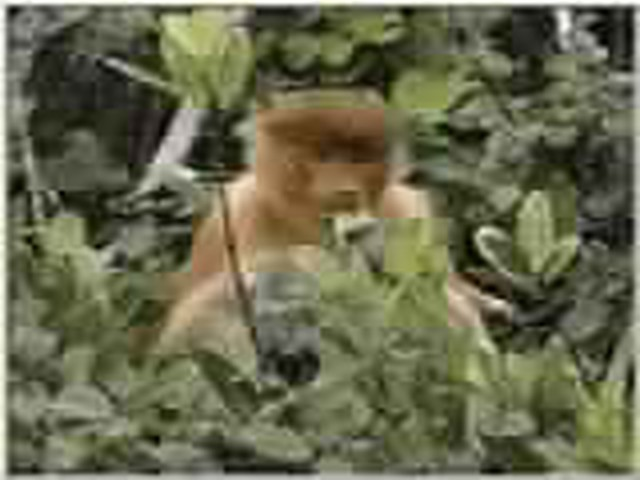Monkey: (164, 94, 494, 326)
